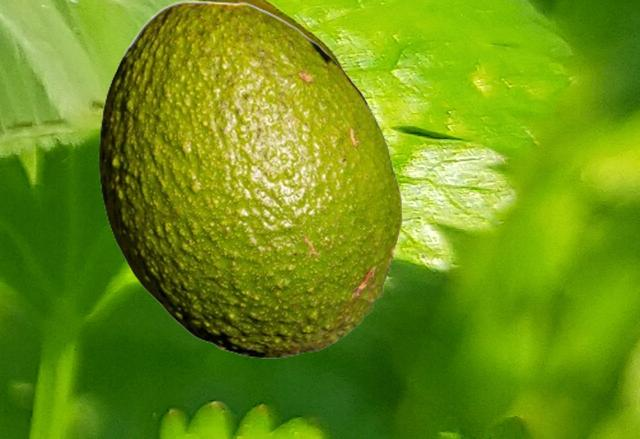avocado: (98, 0, 401, 357)
